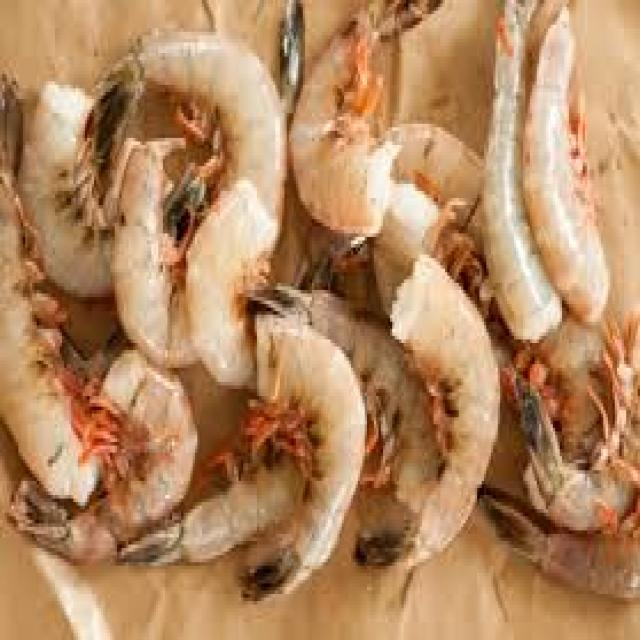Spinach bagged/loose: (389, 259, 500, 580), (247, 320, 365, 608), (529, 22, 612, 320), (289, 11, 393, 239), (103, 21, 278, 138), (21, 80, 106, 297), (96, 351, 198, 524), (181, 174, 262, 386), (110, 139, 182, 359)
